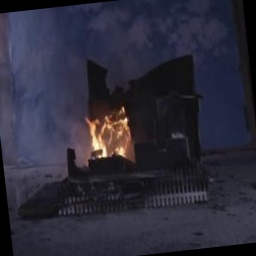fire: (78, 97, 141, 168)
